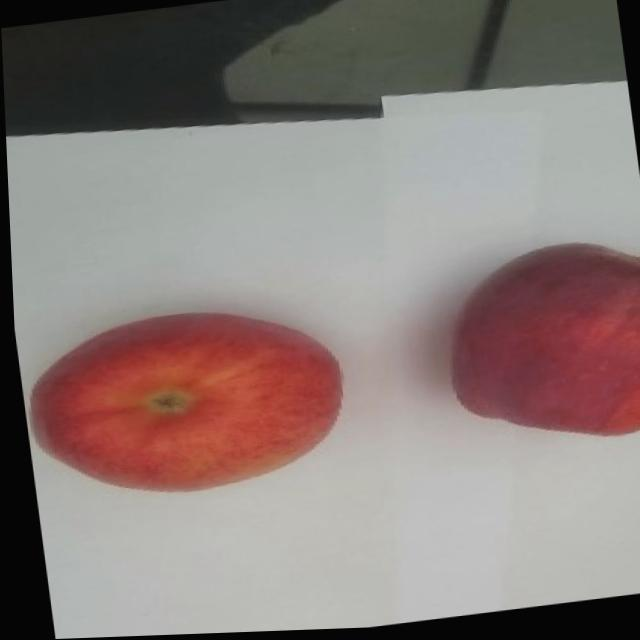Apple: (14, 294, 350, 510), (431, 235, 640, 459)
